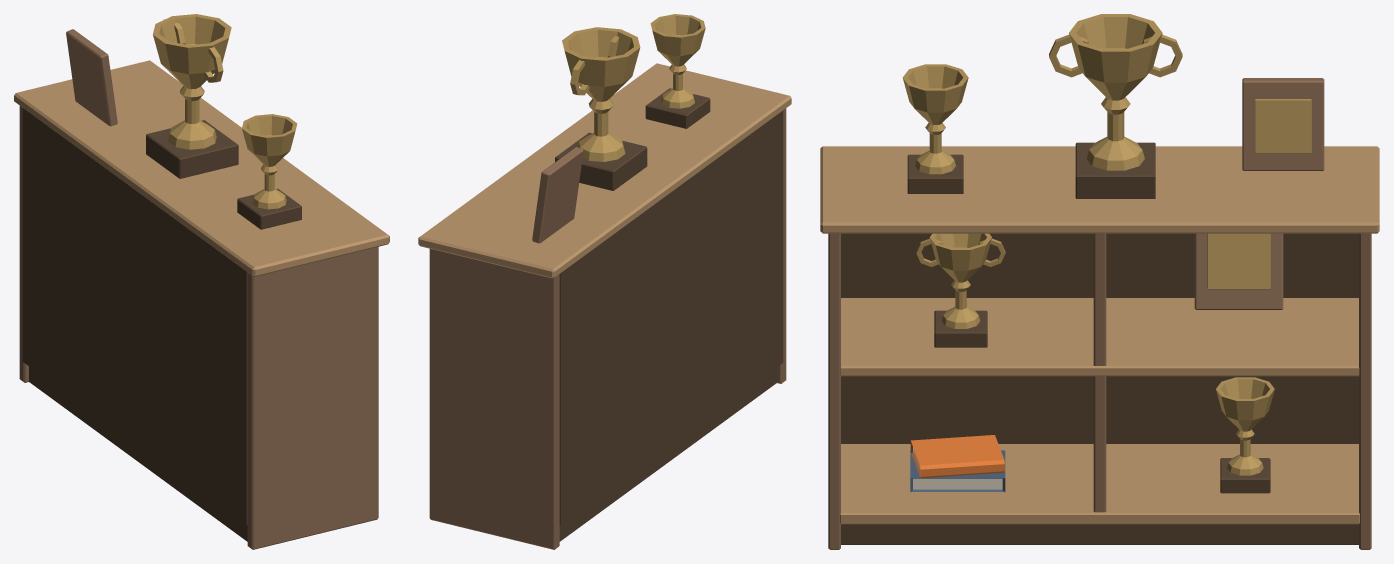
The picture shows the model from 3 angles, left to right: view 1: azimuth 30°, elevation 25°; view 2: azimuth 150°, elevation 25°; view 3: azimuth 270°, elevation 25°; orthographic projection. The views are drawn at different scales.
Visible parts, largest first — view 1: C09_shelf, C09_trophies; view 2: C09_shelf, C09_trophies; view 3: C09_shelf, C09_trophies, C09_books.
Boxes of the visible parts, bbox=[...] form: C09_shelf: bbox=[14, 60, 389, 549]; C09_trophies: bbox=[66, 14, 301, 229]; C09_shelf: bbox=[418, 63, 791, 549]; C09_trophies: bbox=[532, 14, 710, 243]; C09_shelf: bbox=[820, 146, 1379, 549]; C09_trophies: bbox=[902, 14, 1324, 493]; C09_books: bbox=[910, 435, 1005, 491].
Size of the model in its own units: 0.585 by 1.68 by 1.77.
